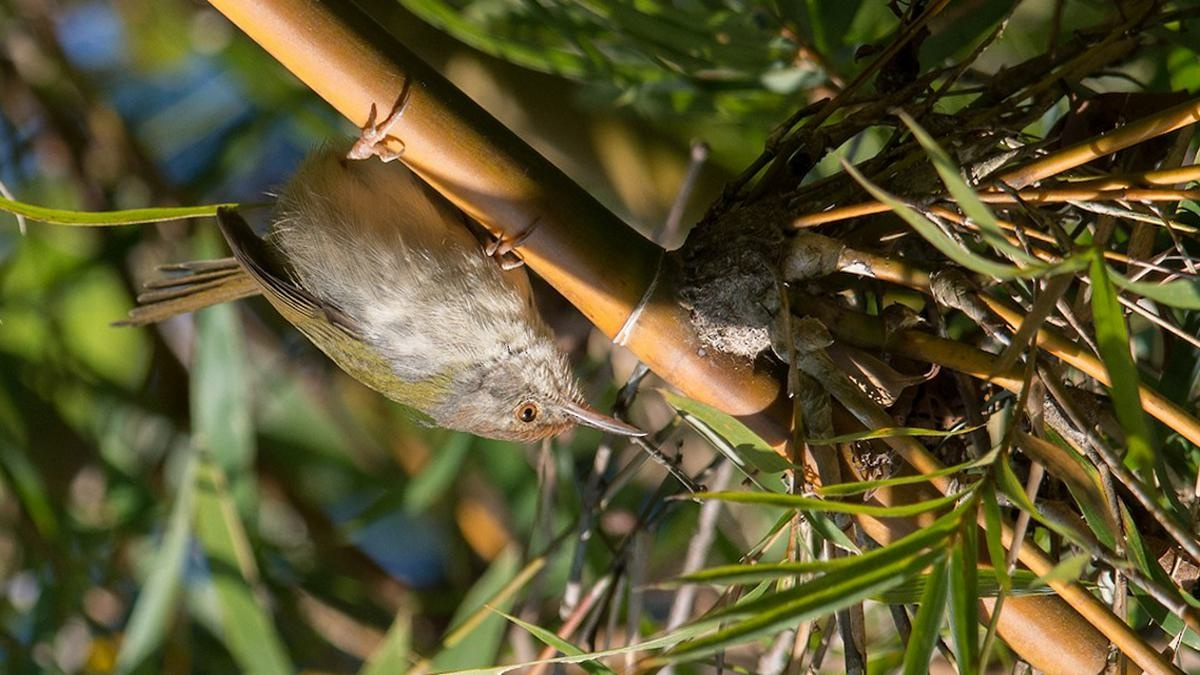tailorbird: (114, 82, 659, 459)
